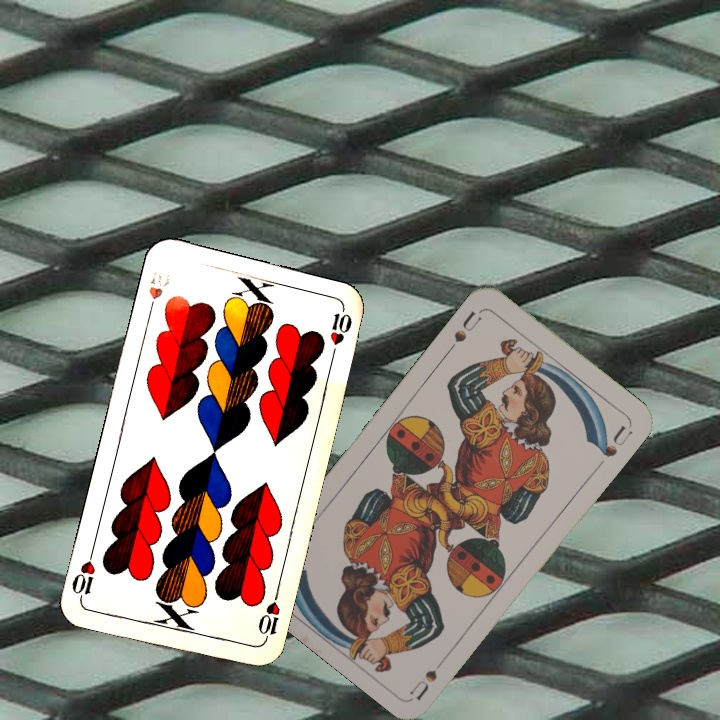H10: (254, 587, 283, 646), (144, 268, 172, 319)
SU: (443, 306, 485, 356), (406, 666, 440, 702)
